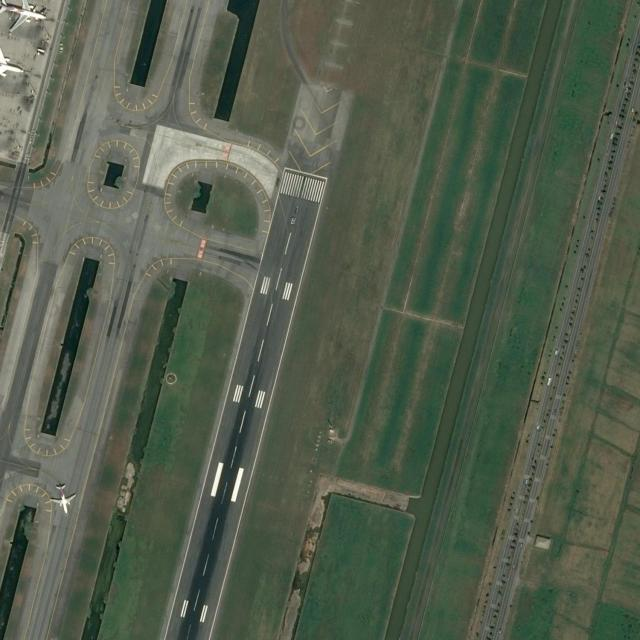Aircraft: (0, 0, 49, 33), (0, 37, 26, 87), (44, 481, 78, 515)
